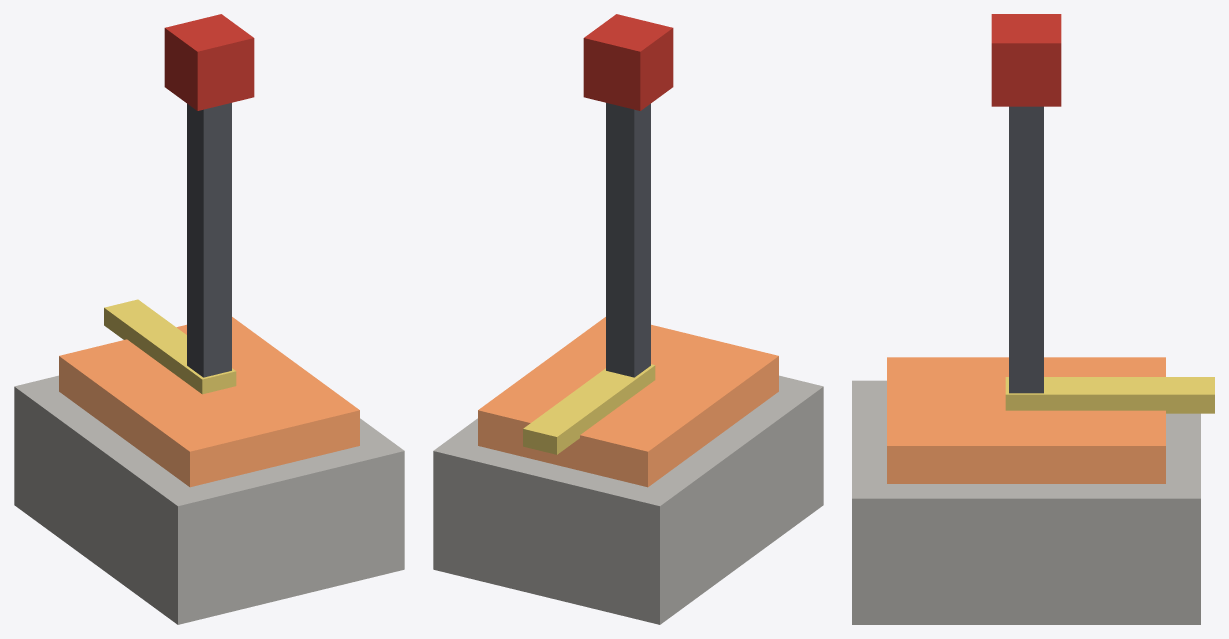
Rendered from build_rail_switch.glb.
3 views of the same model, side by side, from view 1: azimuth 30°, elevation 25°; view 2: azimuth 150°, elevation 25°; view 3: azimuth 270°, elevation 25° (orthographic). The views are drawn at different scales.
Parts seen in each view (by area): view 1: Baked, _MeshInstance3D_746, _MeshInstance3D_747; view 2: Baked, _MeshInstance3D_746, _MeshInstance3D_747; view 3: Baked, _MeshInstance3D_746, _MeshInstance3D_747.
Boxes of the visible parts, x1,y1,x2,y2 form: Baked: [14, 299, 404, 624]; _MeshInstance3D_746: [187, 103, 231, 377]; _MeshInstance3D_747: [164, 14, 254, 110]; Baked: [433, 317, 823, 624]; _MeshInstance3D_746: [606, 103, 650, 377]; _MeshInstance3D_747: [583, 14, 673, 110]; Baked: [852, 357, 1214, 624]; _MeshInstance3D_746: [1009, 106, 1043, 393]; _MeshInstance3D_747: [991, 14, 1061, 106].
Size of the model in its own units: 0.4 by 0.85 by 0.52.
